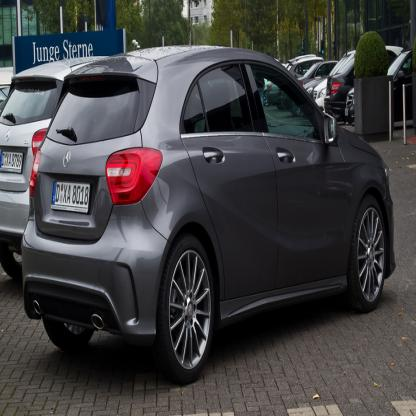Car: (1, 42, 416, 388)
